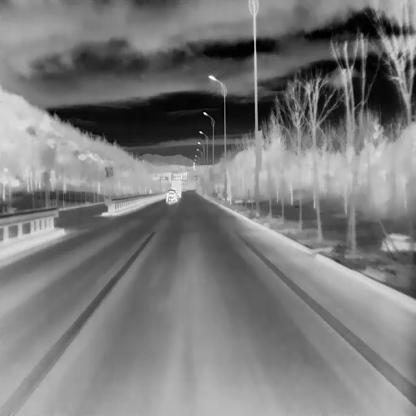car: (171, 180, 181, 197), (165, 189, 178, 202)
